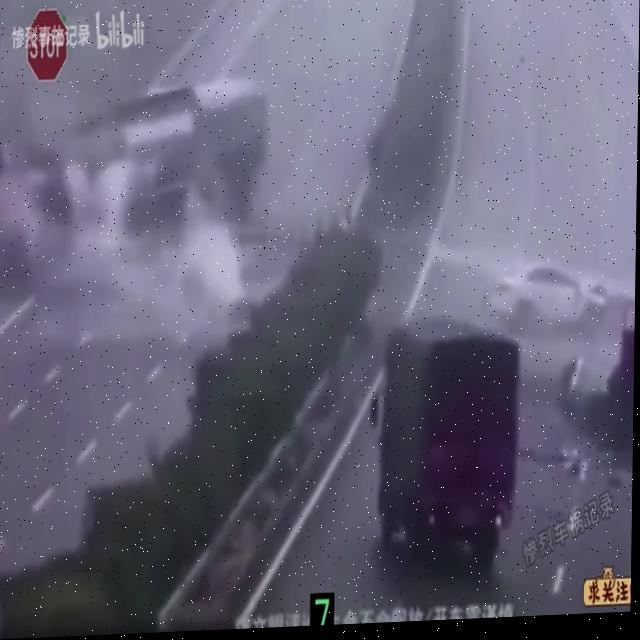multiple_accident: (85, 48, 305, 272), (448, 232, 640, 350)
